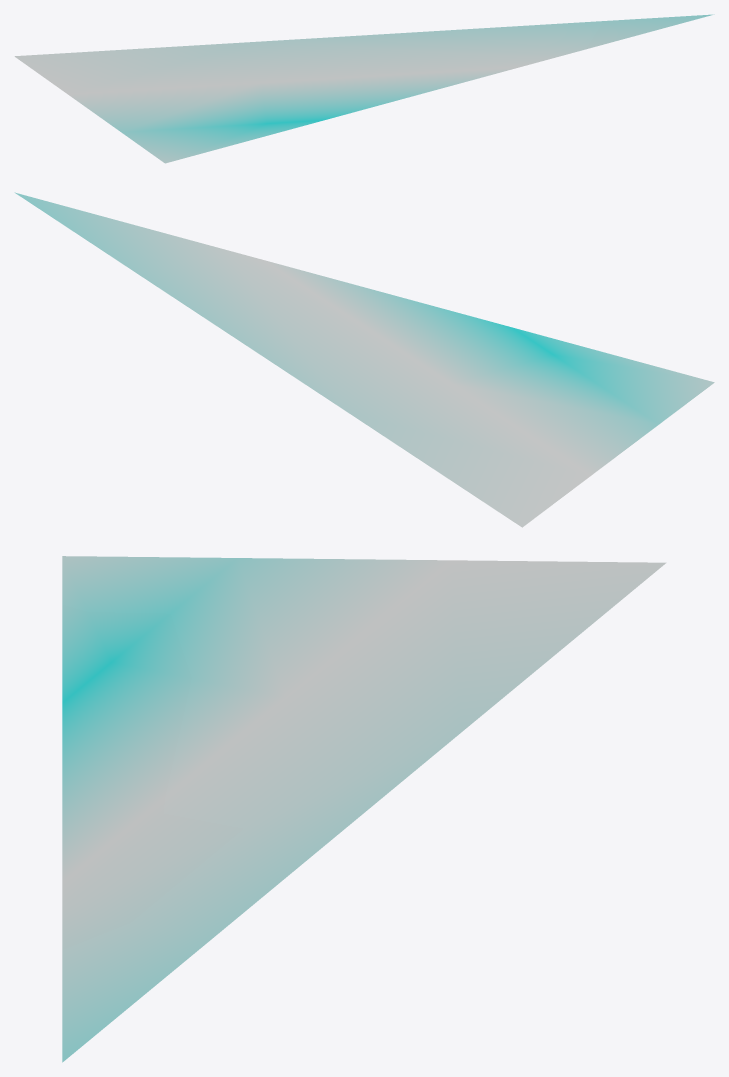
3 views of the same model, one above another, from view 1: azimuth 30°, elevation 25°; view 2: azimuth 150°, elevation 25°; view 3: azimuth 270°, elevation 25° (orthographic). The views are drawn at different scales.
Visible parts, largest first — view 1: SpaceCenter_Long3_GenerateRoad_Asphalt_PCGMesh_Decal_Mesh_x1; view 2: SpaceCenter_Long3_GenerateRoad_Asphalt_PCGMesh_Decal_Mesh_x1; view 3: SpaceCenter_Long3_GenerateRoad_Asphalt_PCGMesh_Decal_Mesh_x1.
Part boxes in pixels (bbox=[...]): SpaceCenter_Long3_GenerateRoad_Asphalt_PCGMesh_Decal_Mesh_x1: bbox=[14, 14, 714, 163]; SpaceCenter_Long3_GenerateRoad_Asphalt_PCGMesh_Decal_Mesh_x1: bbox=[14, 192, 714, 527]; SpaceCenter_Long3_GenerateRoad_Asphalt_PCGMesh_Decal_Mesh_x1: bbox=[62, 556, 666, 1062].
Bounding box in the file's own units: 37.46 × 78.69 × 2.5.
